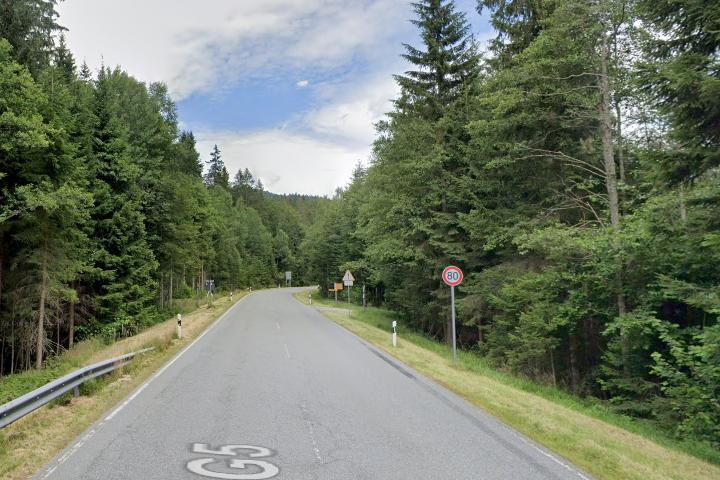traffic_sign: (441, 265, 463, 286)
